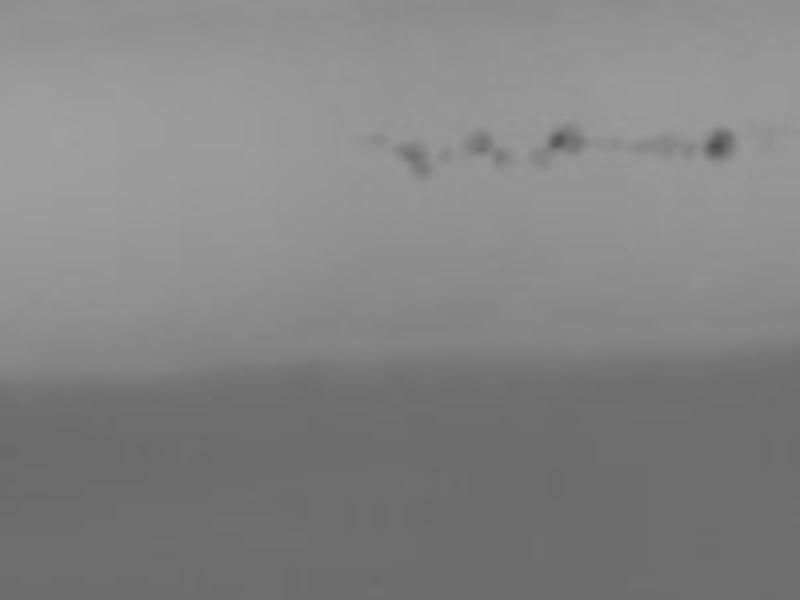defect: (627, 133, 701, 161), (542, 121, 587, 160), (701, 125, 737, 165), (397, 138, 430, 177), (456, 127, 496, 155), (526, 137, 556, 169), (491, 144, 513, 176), (432, 140, 453, 166), (371, 131, 389, 151)
